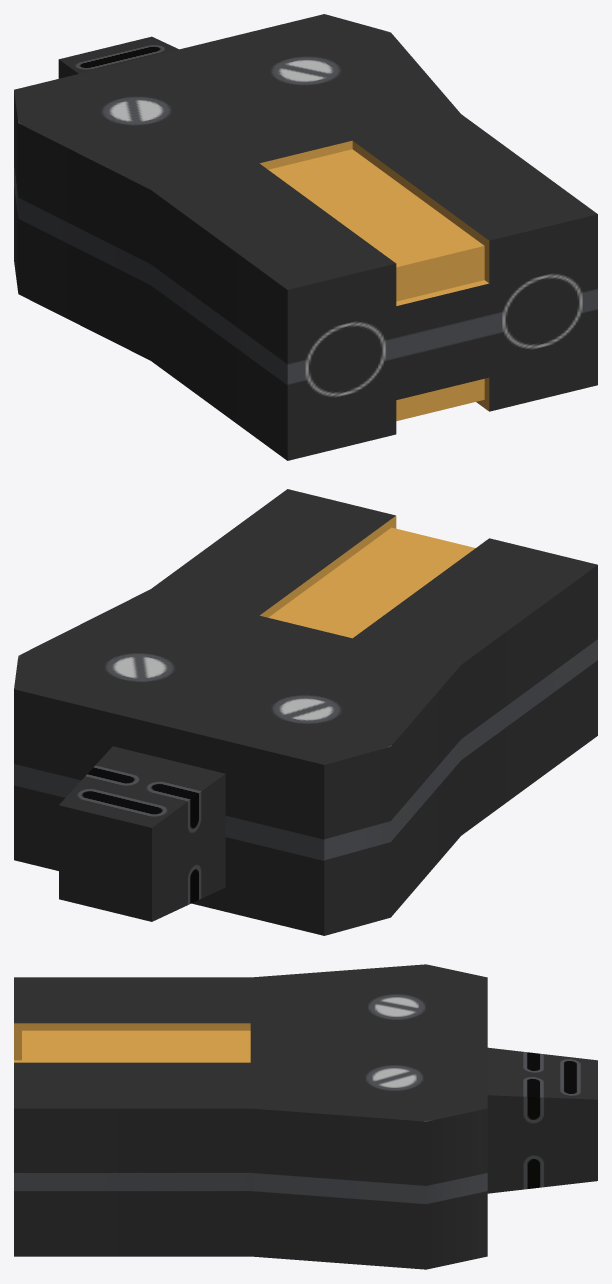
Rendered from power-supply.glb.
The picture shows the model from 3 angles, top to bottom: view 1: azimuth 30°, elevation 25°; view 2: azimuth 150°, elevation 25°; view 3: azimuth 270°, elevation 25°; orthographic projection. The views are drawn at different scales.
Visible parts, largest first — view 1: Appliance_Plug_5; view 2: Appliance_Plug_5; view 3: Appliance_Plug_5.
Boxes of the visible parts, left/top/right/bottom form: Appliance_Plug_5: left=14, top=14, right=597, bottom=460; Appliance_Plug_5: left=14, top=489, right=597, bottom=935; Appliance_Plug_5: left=14, top=964, right=597, bottom=1269.
Bounding box in the file's own units: 228 × 100 × 358.
1 material, 1 textured.
